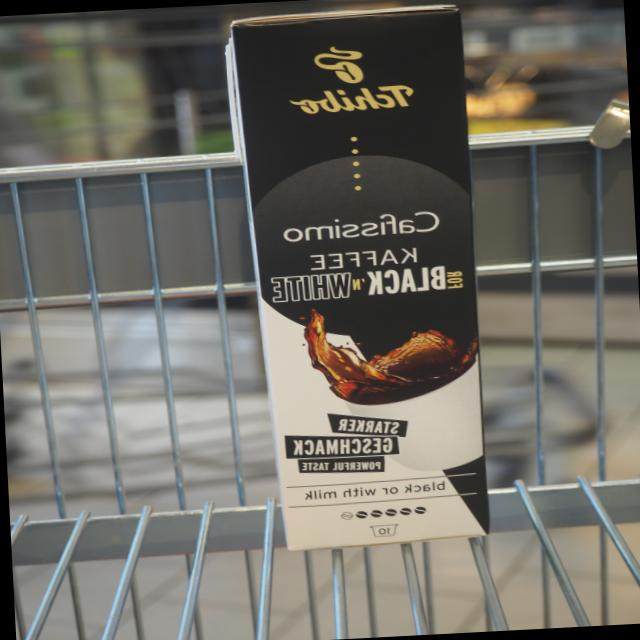Simo Kaffee BW: (233, 2, 494, 556)
